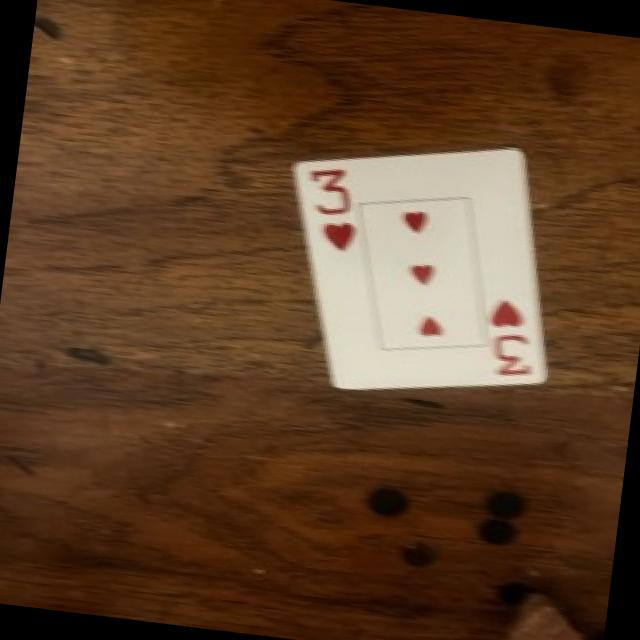3 of hearts: (294, 148, 545, 385)
